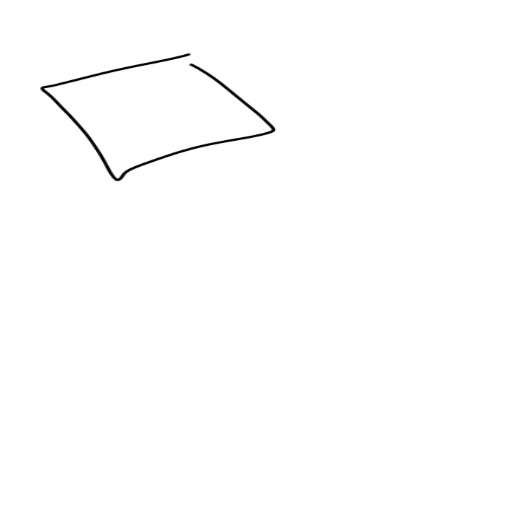square: (35, 48, 283, 186)
